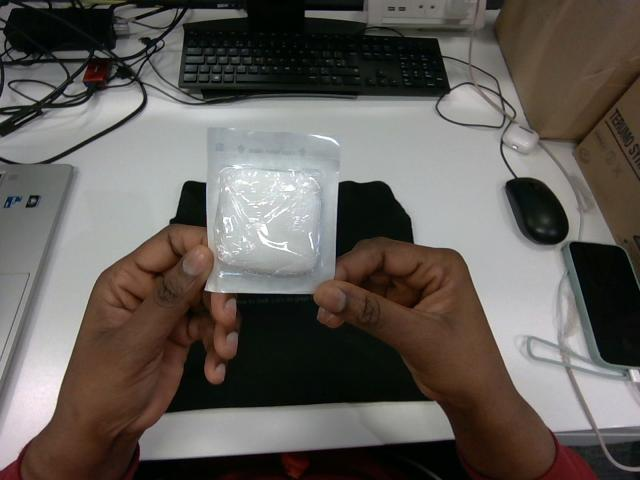gauze: (207, 128, 338, 292)
